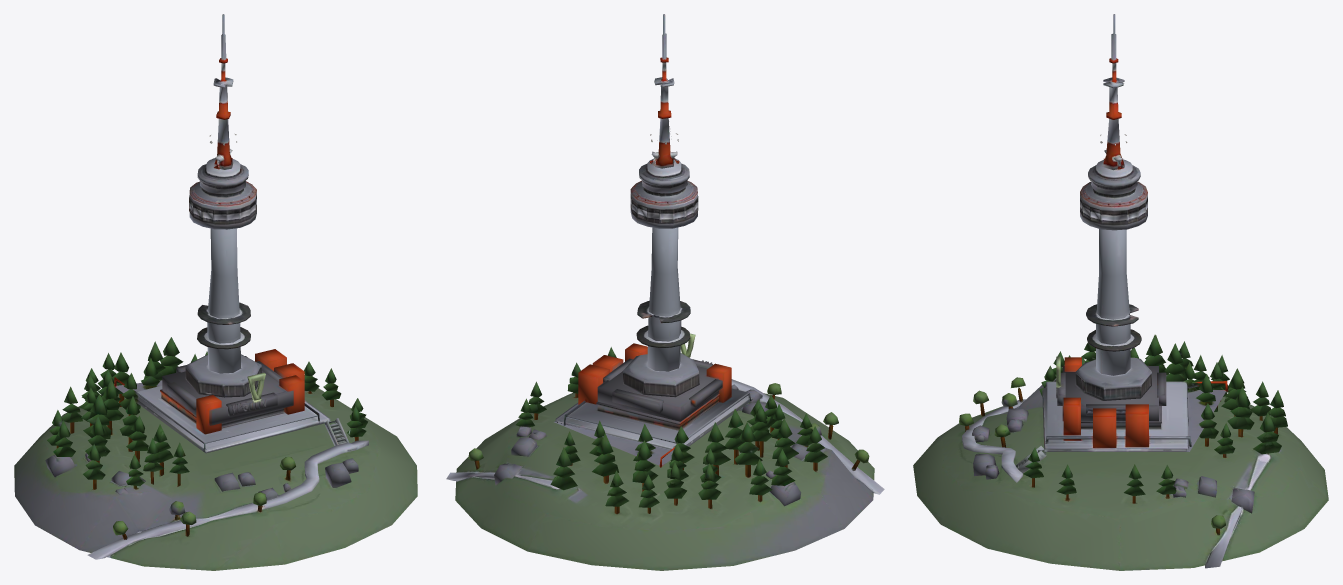
The model's file is 레벨4_서울N타워.glb.
3 renders of one model, left to right at view 1: azimuth 30°, elevation 25°; view 2: azimuth 150°, elevation 25°; view 3: azimuth 270°, elevation 25°, orthographic.
Parts seen in each view (by area): view 1: tripo_node_e28a0b02-e90e-439b-88fb-0ac015f4ab00; view 2: tripo_node_e28a0b02-e90e-439b-88fb-0ac015f4ab00; view 3: tripo_node_e28a0b02-e90e-439b-88fb-0ac015f4ab00.
Part boxes in pixels (box(x1,y1,x2,y2)): tripo_node_e28a0b02-e90e-439b-88fb-0ac015f4ab00: box(14, 14, 417, 570); tripo_node_e28a0b02-e90e-439b-88fb-0ac015f4ab00: box(446, 14, 884, 570); tripo_node_e28a0b02-e90e-439b-88fb-0ac015f4ab00: box(913, 14, 1328, 570).
Size of the model in its own units: 0.8066 by 0.998 by 0.7988.
1 material, 1 textured.
